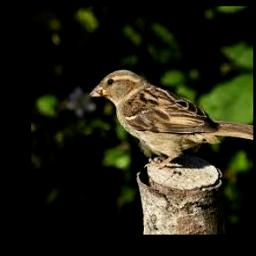Sparrow: (89, 69, 253, 167)
